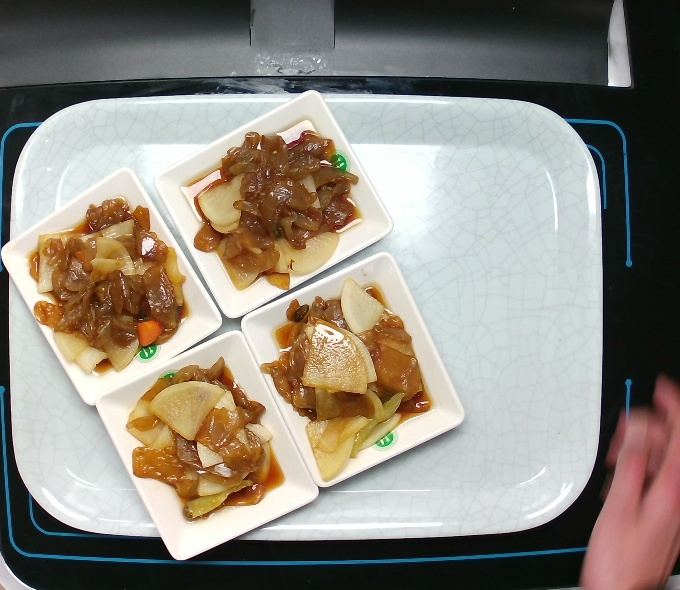wcq-HaiZheTou: (258, 276, 438, 485), (24, 189, 187, 377), (188, 126, 365, 291), (121, 349, 277, 526)
